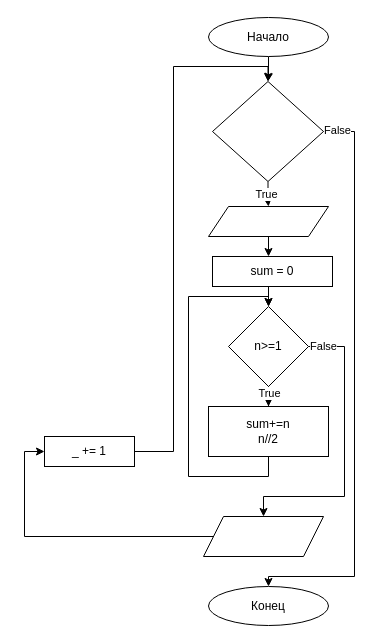
Image size: 380x643. Some labels were removed from this diagram. The shapes that lost their labels are listed below. From the top down, each one's centre as x and y in pixels, then its label:
At pixel 268 131: "'_' < введенное число".
At pixel 268 221: "ввод n".
At pixel 263 536: "вывод sum".
